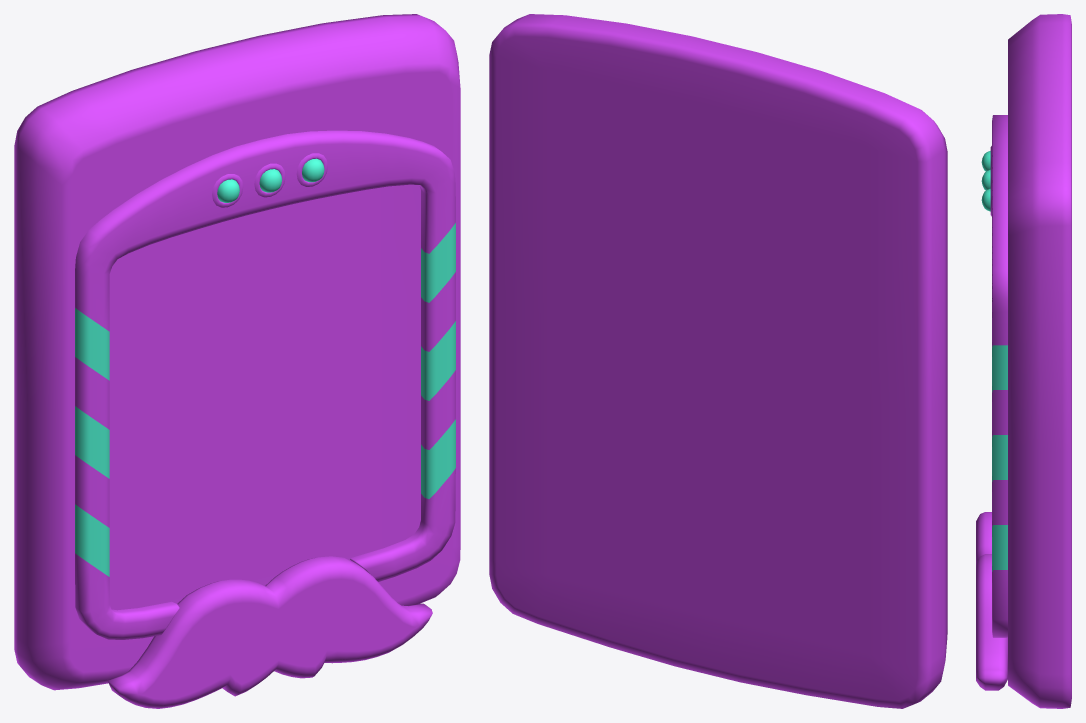
The model's file is SM_BS_Airdrop_MajorMustache_Minigame_Frame.fbx.
3 renders of one model, left to right at view 1: azimuth 30°, elevation 25°; view 2: azimuth 150°, elevation 25°; view 3: azimuth 270°, elevation 25°, orthographic. The views are drawn at different scales.
Visible parts, largest first — view 1: SM_BS_Airdrop_MajorMustache_Minigame_Frame; view 2: SM_BS_Airdrop_MajorMustache_Minigame_Frame; view 3: SM_BS_Airdrop_MajorMustache_Minigame_Frame.
Boxes of the visible parts, x1,y1,x2,y2 form: SM_BS_Airdrop_MajorMustache_Minigame_Frame: (14,14,460,708); SM_BS_Airdrop_MajorMustache_Minigame_Frame: (489,14,947,708); SM_BS_Airdrop_MajorMustache_Minigame_Frame: (976,14,1071,708).
Size of the model in its own units: 1415 by 1930 by 300.
